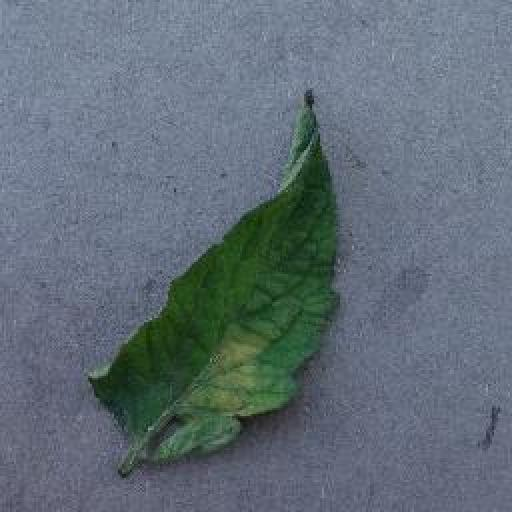Leaf Mold: (89, 86, 344, 462)
